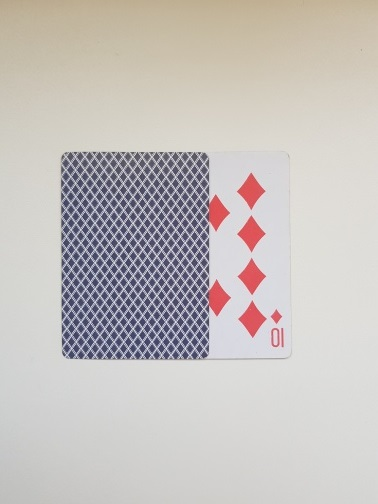ten: (141, 151, 293, 359)
